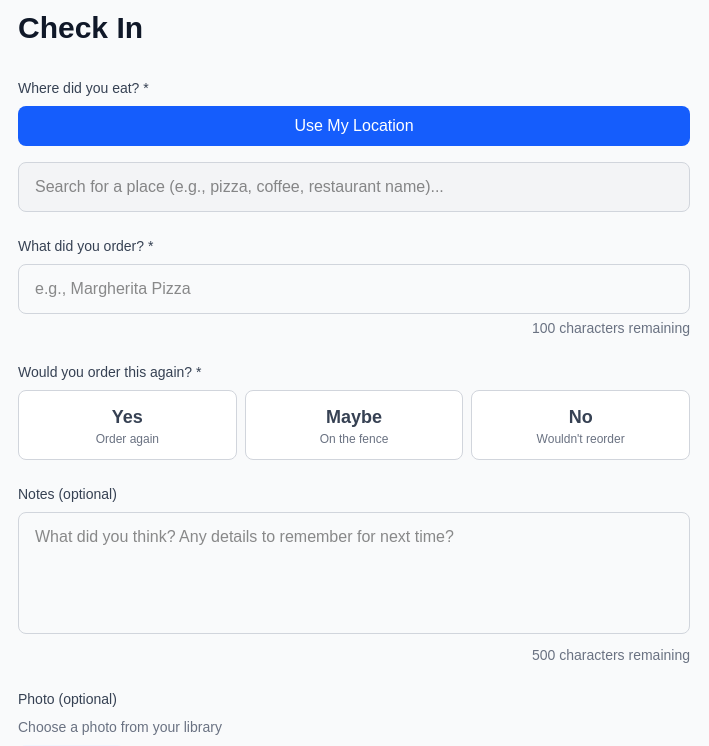
Test case: CheckInPage › Character limits › should show note character counter
Expected: the text "500 characters remaining" is shown, [532,647,690,663]
// Type 20 characters
Type "This was delicious!" into the text box with placeholder "What did you think? Any details to remember for next time?" at (354, 573), box [18,512,690,634]
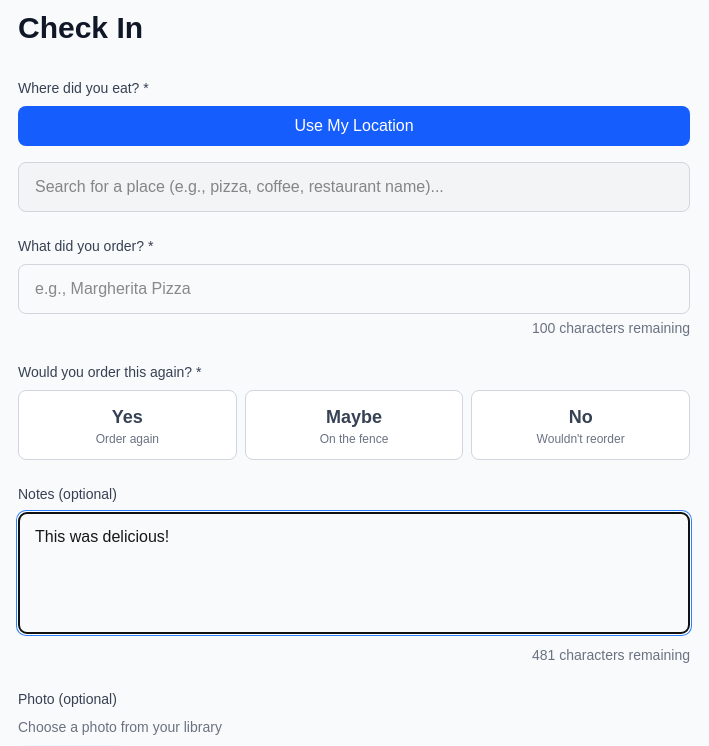
Result: the text "481 characters remaining" is shown at [532,647,690,663]
